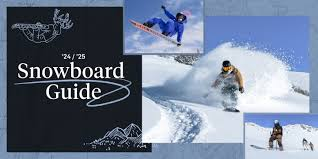snowboard: (127, 17, 179, 46), (249, 143, 278, 150), (225, 106, 241, 115)
